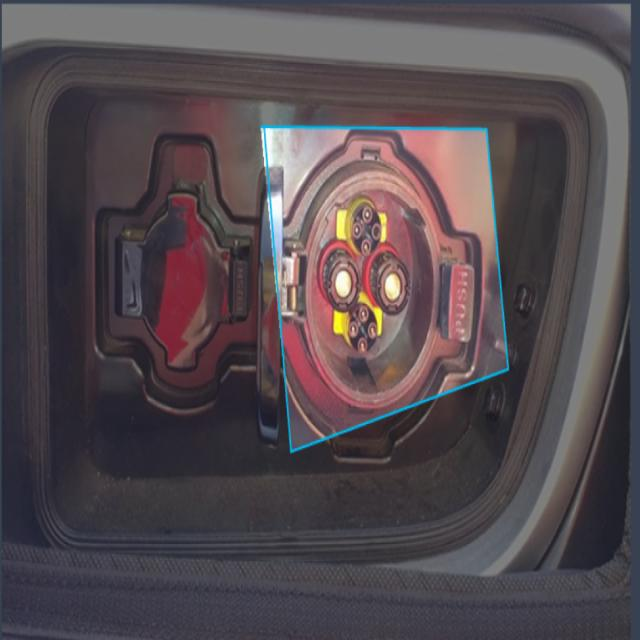CHAdeMO: (309, 190, 436, 382), (299, 193, 319, 233), (289, 172, 300, 189)
